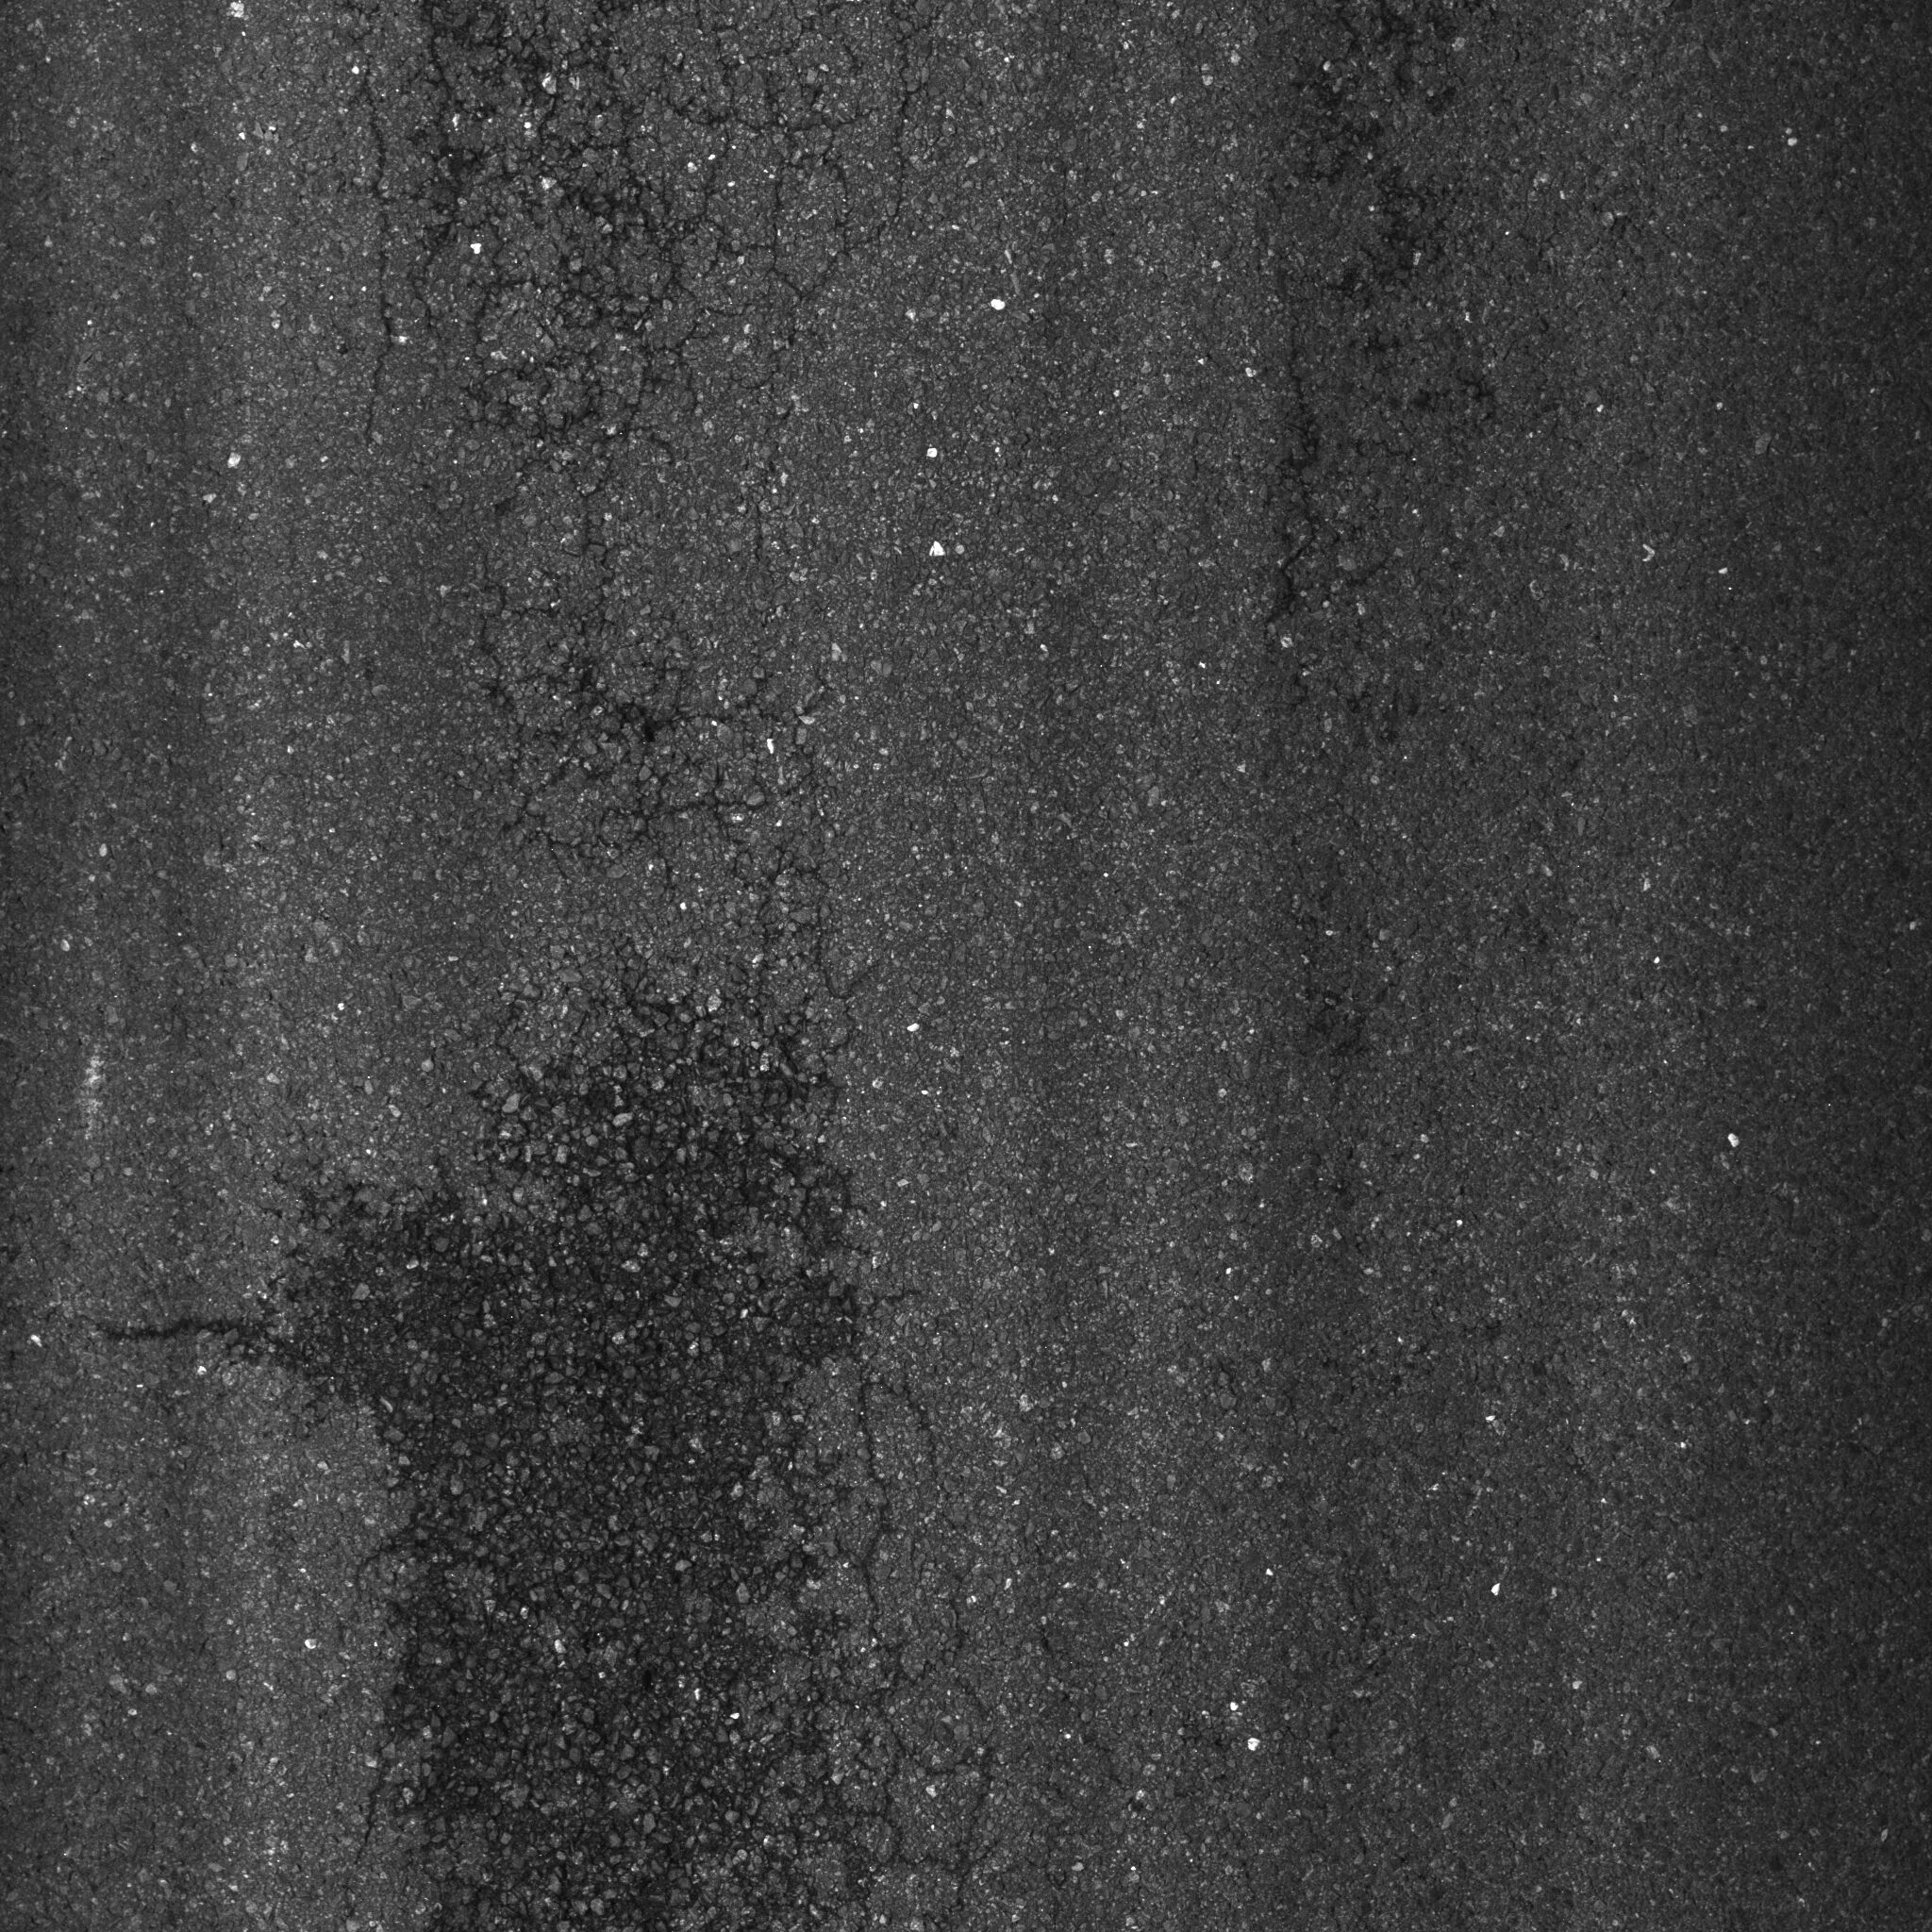alligator: (189, 18, 1042, 1932)
